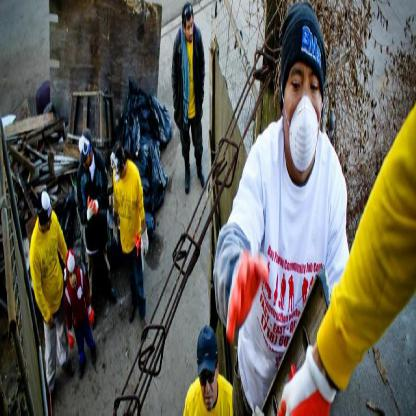face: (285, 62, 323, 172), (200, 367, 217, 410), (186, 14, 194, 43), (70, 268, 77, 290), (45, 213, 52, 229), (84, 154, 91, 169), (115, 169, 123, 180)
